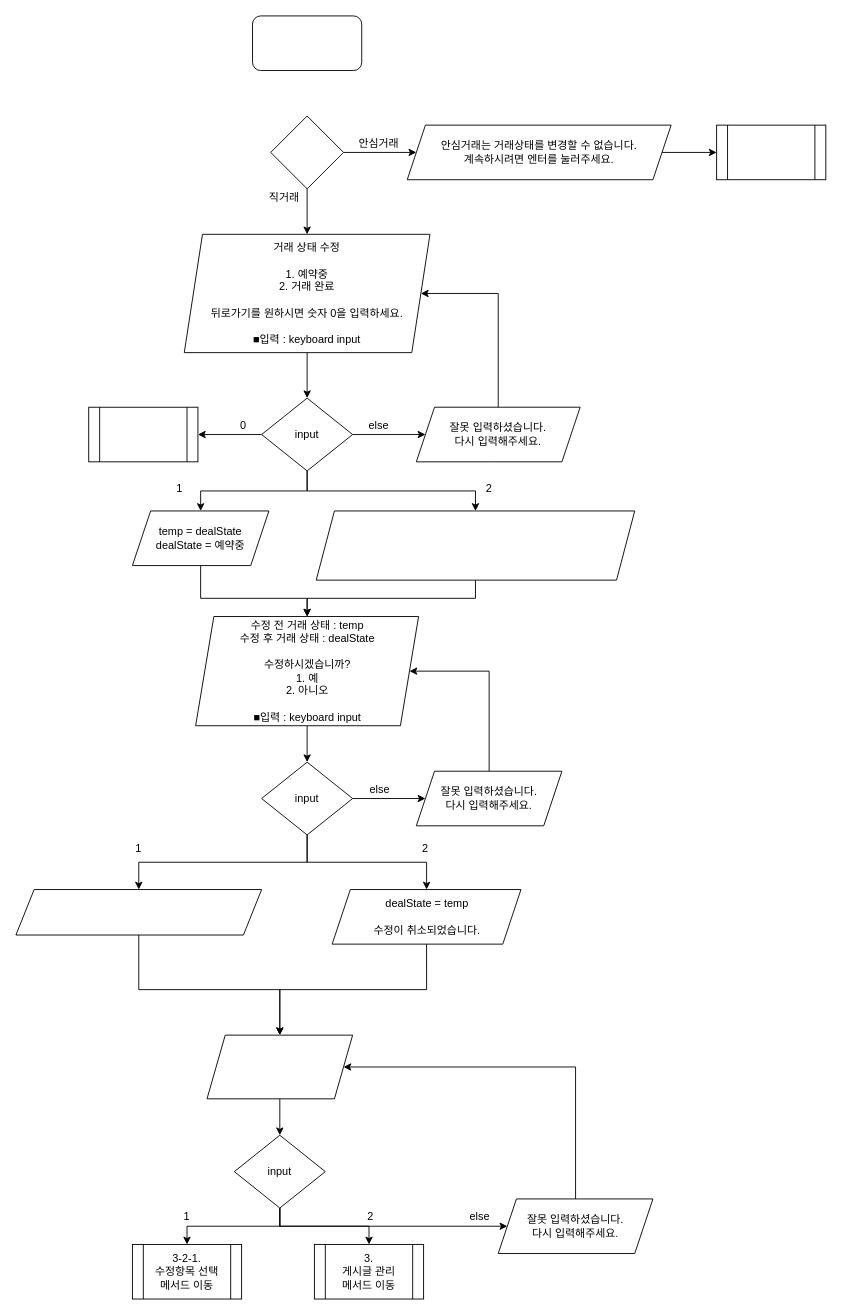
Image size: 842x1315. Some labels were removed from this diagram. Here are the shapes that lost their labels. From the top down, the centre of each, then its label:
(x=307, y=43): 거래 상태 수정 메서드 진입
(x=307, y=152): wayOfDeal
(x=771, y=152): 수정 항목 선택 메서드 이동
(x=143, y=434): 거래 방식 수정 메서드 이동
(x=475, y=545): temp = dealState dealState = 거래 완료 ※ 거래 완료 선택 시, 상품을 추가로 수정할 수 없습니다.
(x=138, y=912): 거래 상태가 dealState 수정되었습니다.
(x=279, y=1066): 1. 추가 수정하기 2. 나가기 ■입력 : keyboard input
